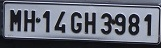character: (8, 8, 21, 33), (83, 11, 96, 35), (22, 9, 35, 32), (127, 13, 140, 35), (53, 10, 65, 33), (100, 11, 112, 34), (70, 11, 82, 33), (114, 13, 125, 35), (143, 13, 153, 36), (42, 9, 50, 33)
